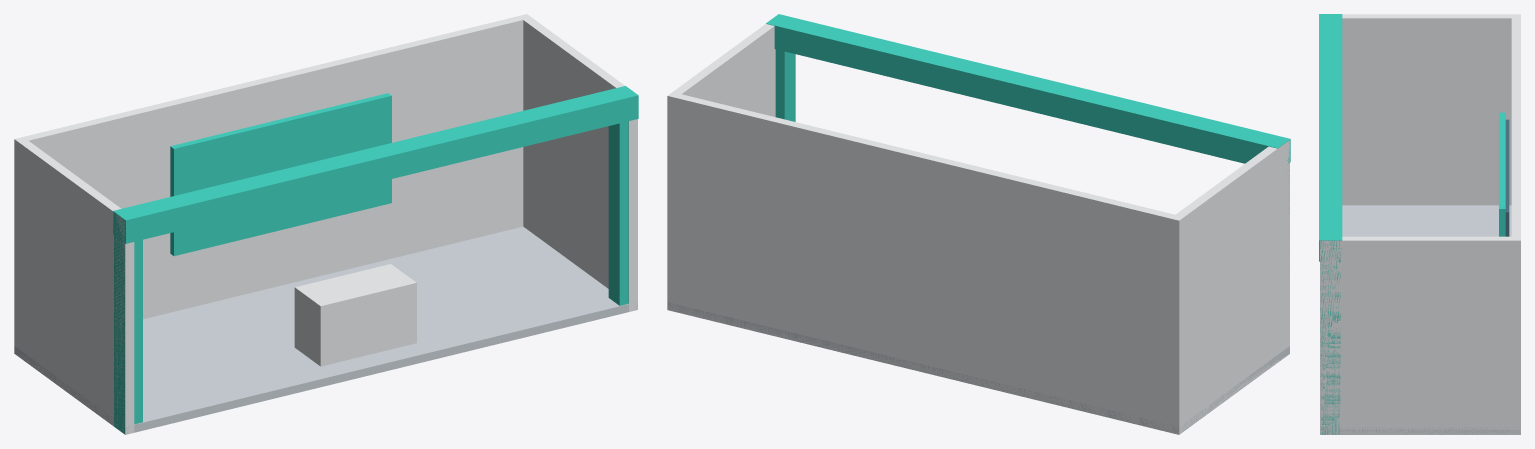
3 views of the same model, side by side, from view 1: azimuth 30°, elevation 25°; view 2: azimuth 150°, elevation 25°; view 3: azimuth 270°, elevation 25° (orthographic). The views are drawn at different scales.
Visible parts, largest first — view 1: Exhibition Booth Concept; view 2: Exhibition Booth Concept; view 3: Exhibition Booth Concept.
Part boxes in pixels (bbox=[...]): Exhibition Booth Concept: bbox=[14, 14, 638, 434]; Exhibition Booth Concept: bbox=[667, 14, 1290, 434]; Exhibition Booth Concept: bbox=[1319, 14, 1520, 434].
Size of the model in its own units: 8 by 3.2 by 3.01.
